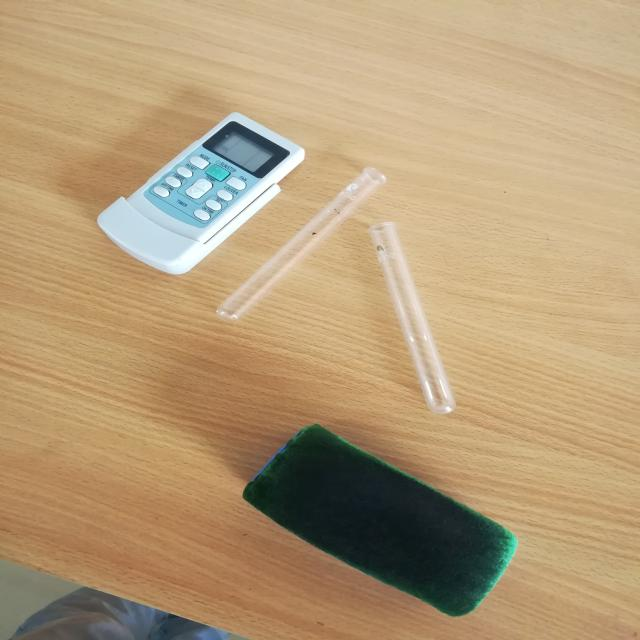Test_Tube: (201, 148, 426, 340), (359, 212, 485, 434)
